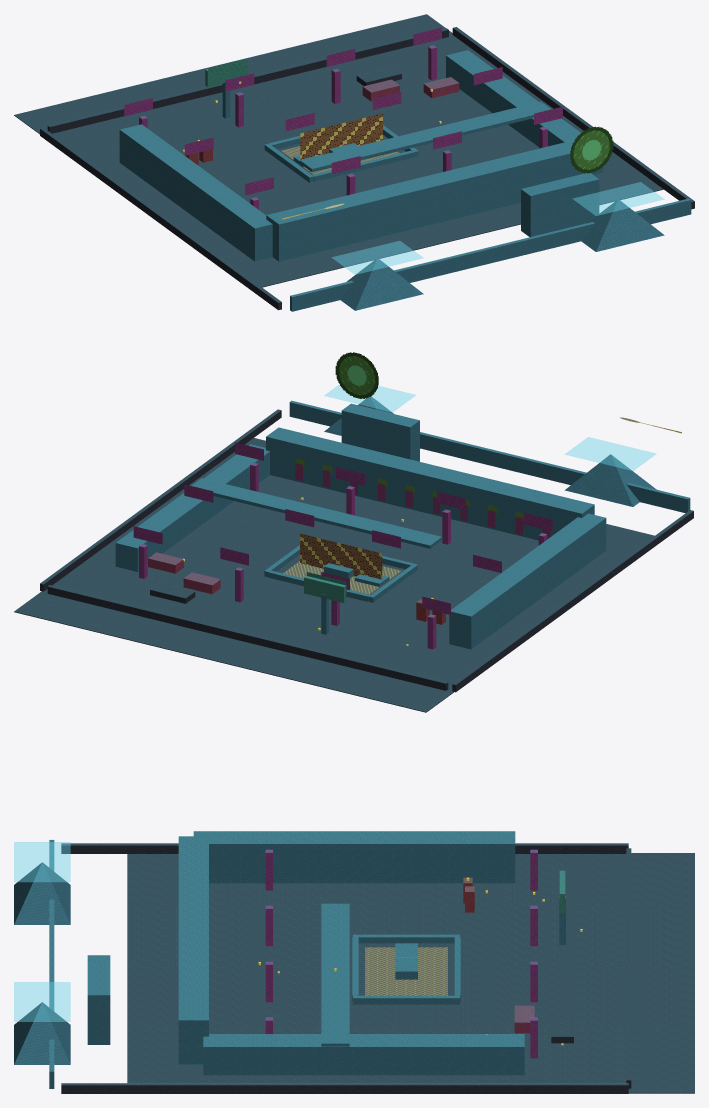
Rendered from motel-mirage.glb.
The picture shows the model from 3 angles, top to bottom: view 1: azimuth 30°, elevation 25°; view 2: azimuth 150°, elevation 25°; view 3: azimuth 270°, elevation 25°; orthographic projection. The views are drawn at different scales.
Parts seen in each view (by area): view 1: ART_motel-mirage_wet_asphalt_courtyard, WALKABLE_motel-mirage_wet_asphalt_courtyard, ART_motel-mirage_rear_motel_block, ART_motel-mirage_left_motel_wing, ART_motel-mirage_north_fence, ART_motel-mirage_warped_rear_room_block, ART_motel-mirage_right_covered_walkway, WALKABLE_motel-mirage_rear_motel_block, ART_motel-mirage_covered_walkway_roof, WALKABLE_motel-mirage_left_motel_wing, ART_motel-mirage_south_parking_curb, ART_motel-mirage_west_parking_curb (+19 smaller); view 2: ART_motel-mirage_wet_asphalt_courtyard, WALKABLE_motel-mirage_wet_asphalt_courtyard, ART_motel-mirage_rear_motel_block, ART_motel-mirage_left_motel_wing, ART_motel-mirage_right_covered_walkway, ART_motel-mirage_north_fence, ART_motel-mirage_south_parking_curb, WALKABLE_motel-mirage_rear_motel_block, ART_motel-mirage_covered_walkway_roof, ART_motel-mirage_warped_rear_room_block, WALKABLE_motel-mirage_left_motel_wing, ART_motel-mirage_west_parking_curb (+18 smaller); view 3: ART_motel-mirage_wet_asphalt_courtyard, WALKABLE_motel-mirage_wet_asphalt_courtyard, ART_motel-mirage_left_motel_wing, ART_motel-mirage_right_covered_walkway, ART_motel-mirage_rear_motel_block, ART_motel-mirage_east_parking_curb, WALKABLE_motel-mirage_rear_motel_block, ART_motel-mirage_covered_walkway_roof, WALKABLE_motel-mirage_left_motel_wing, WALKABLE_motel-mirage_covered_walkway_roof, WALKABLE_motel-mirage_right_covered_walkway, ART_motel-mirage_mostly_empty_pool_water_shimmer (+18 smaller).
Boxes of the visible parts, x1=… form: ART_motel-mirage_wet_asphalt_courtyard: x1=14, y1=14, x2=663, y2=287; WALKABLE_motel-mirage_wet_asphalt_courtyard: x1=15, y1=14, x2=661, y2=286; ART_motel-mirage_rear_motel_block: x1=266, y1=140, x2=595, y2=261; ART_motel-mirage_left_motel_wing: x1=119, y1=124, x2=272, y2=261; ART_motel-mirage_north_fence: x1=290, y1=198, x2=691, y2=311; ART_motel-mirage_warped_rear_room_block: x1=521, y1=173, x2=599, y2=236; ART_motel-mirage_right_covered_walkway: x1=446, y1=50, x2=603, y2=174; WALKABLE_motel-mirage_rear_motel_block: x1=267, y1=140, x2=574, y2=223; ART_motel-mirage_covered_walkway_roof: x1=300, y1=101, x2=550, y2=172; WALKABLE_motel-mirage_left_motel_wing: x1=120, y1=124, x2=271, y2=227; ART_motel-mirage_south_parking_curb: x1=47, y1=28, x2=448, y2=133; ART_motel-mirage_west_parking_curb: x1=40, y1=127, x2=281, y2=310; ART_motel-mirage_wet_asphalt_courtyard: x1=14, y1=438, x2=654, y2=712; WALKABLE_motel-mirage_wet_asphalt_courtyard: x1=14, y1=438, x2=653, y2=711; ART_motel-mirage_rear_motel_block: x1=266, y1=427, x2=594, y2=540; ART_motel-mirage_left_motel_wing: x1=449, y1=513, x2=606, y2=649; ART_motel-mirage_right_covered_walkway: x1=115, y1=444, x2=269, y2=571; ART_motel-mirage_north_fence: x1=289, y1=400, x2=690, y2=513; ART_motel-mirage_south_parking_curb: x1=47, y1=585, x2=448, y2=690; WALKABLE_motel-mirage_rear_motel_block: x1=267, y1=428, x2=593, y2=513; ART_motel-mirage_covered_walkway_roof: x1=191, y1=478, x2=441, y2=548; ART_motel-mirage_warped_rear_room_block: x1=341, y1=403, x2=419, y2=461; WALKABLE_motel-mirage_left_motel_wing: x1=451, y1=514, x2=604, y2=615; ART_motel-mirage_west_parking_curb: x1=452, y1=510, x2=693, y2=692; ART_motel-mirage_wet_asphalt_courtyard: x1=127, y1=853, x2=694, y2=1093; WALKABLE_motel-mirage_wet_asphalt_courtyard: x1=127, y1=853, x2=694, y2=1092; ART_motel-mirage_left_motel_wing: x1=193, y1=831, x2=515, y2=883; ART_motel-mirage_right_covered_walkway: x1=203, y1=1034, x2=524, y2=1075; ART_motel-mirage_rear_motel_block: x1=178, y1=836, x2=208, y2=1064; ART_motel-mirage_east_parking_curb: x1=61, y1=1083, x2=628, y2=1093; WALKABLE_motel-mirage_rear_motel_block: x1=179, y1=836, x2=208, y2=1019; ART_motel-mirage_covered_walkway_roof: x1=321, y1=903, x2=349, y2=1046; WALKABLE_motel-mirage_left_motel_wing: x1=194, y1=831, x2=514, y2=843; WALKABLE_motel-mirage_covered_walkway_roof: x1=321, y1=904, x2=349, y2=1043; WALKABLE_motel-mirage_right_covered_walkway: x1=203, y1=1034, x2=524, y2=1046; ART_motel-mirage_mostly_empty_pool_water_shimmer: x1=365, y1=947, x2=447, y2=995.
Size of what is drawn, in the model's own units: 61.27 by 23.12 by 72.
Materials: 13 (11 with a texture image).
